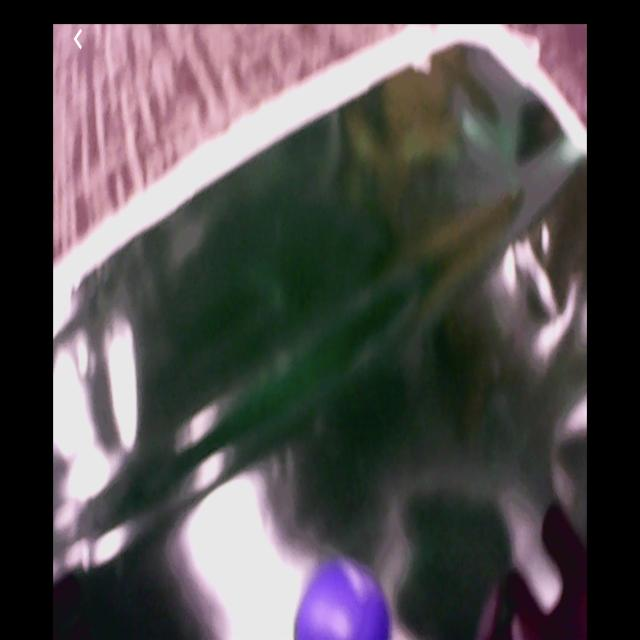ball: (294, 555, 391, 640)
